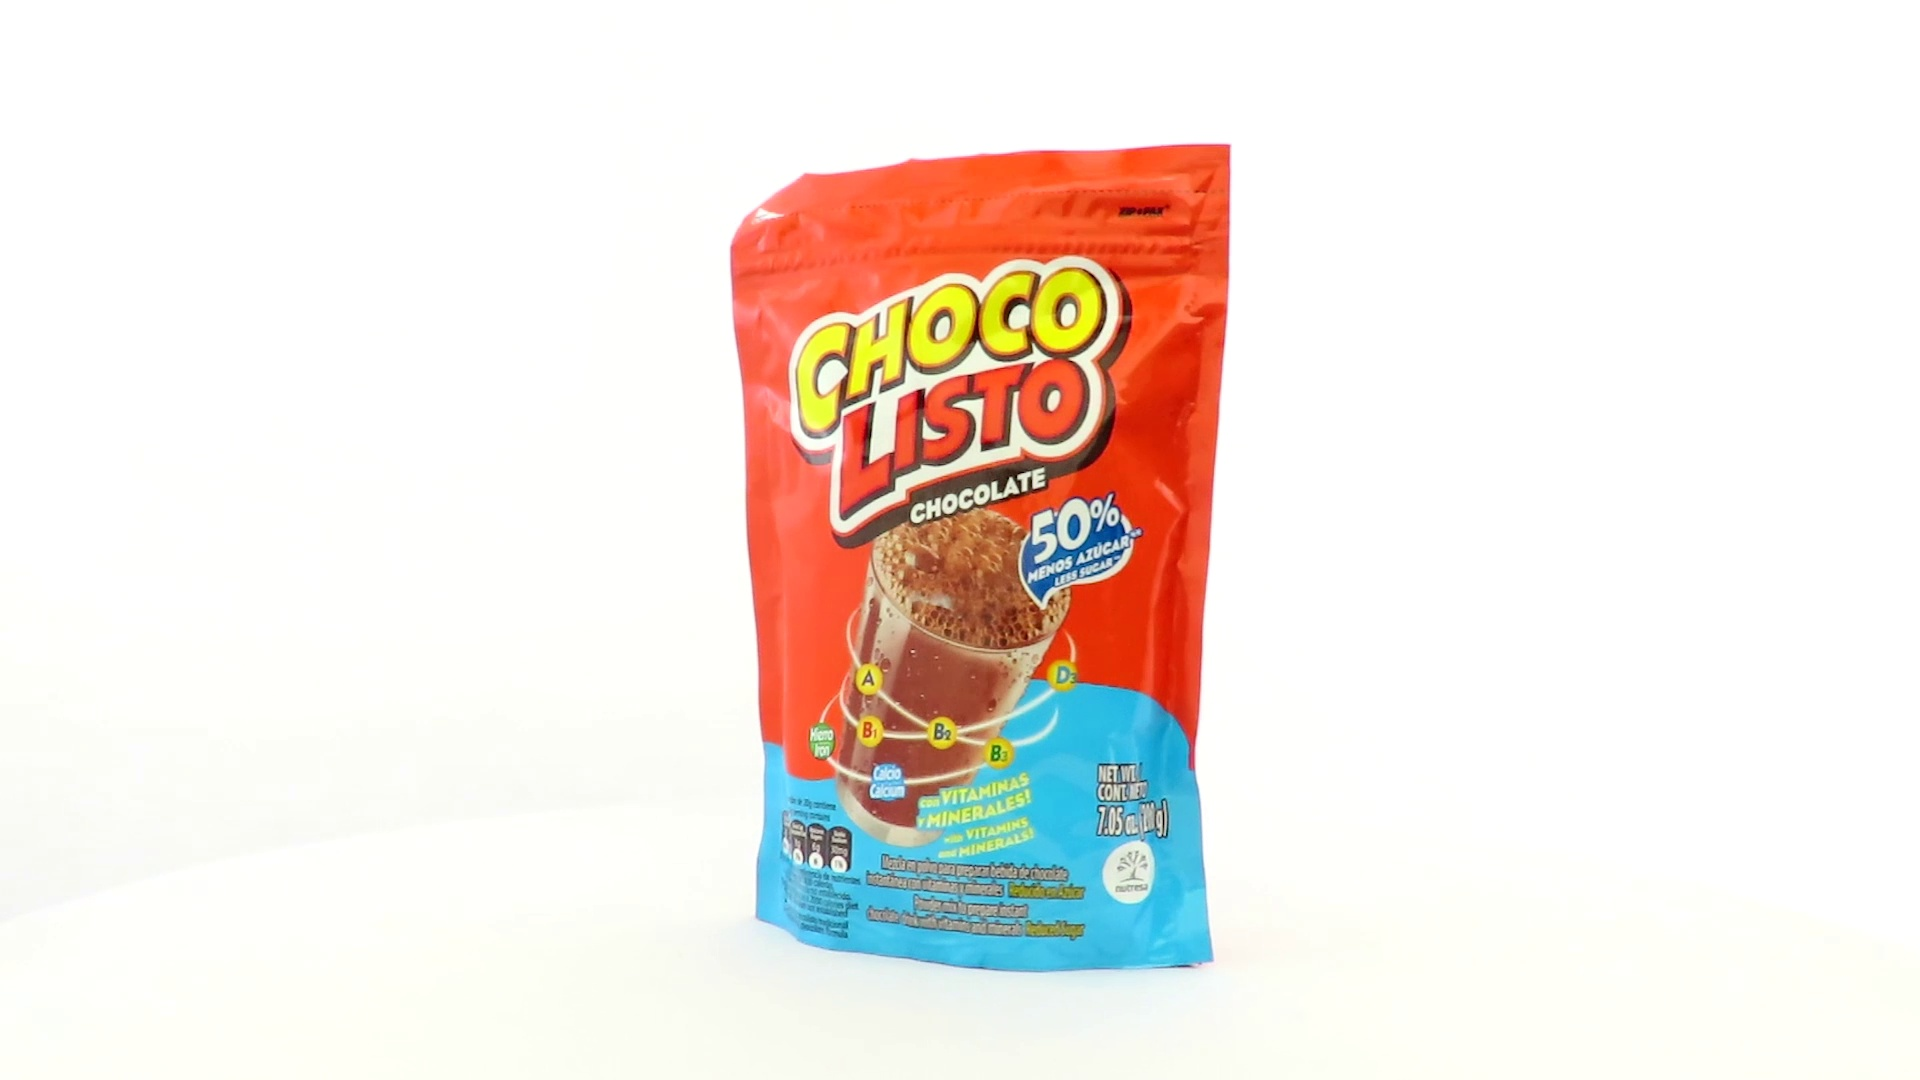COL0170104DYP20000: (725, 138, 1237, 978)
